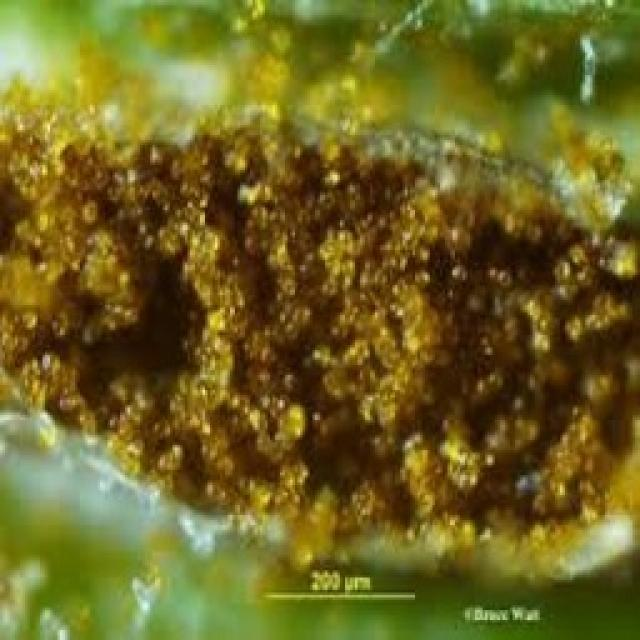Healthy Wheat: (0, 45, 638, 590)
